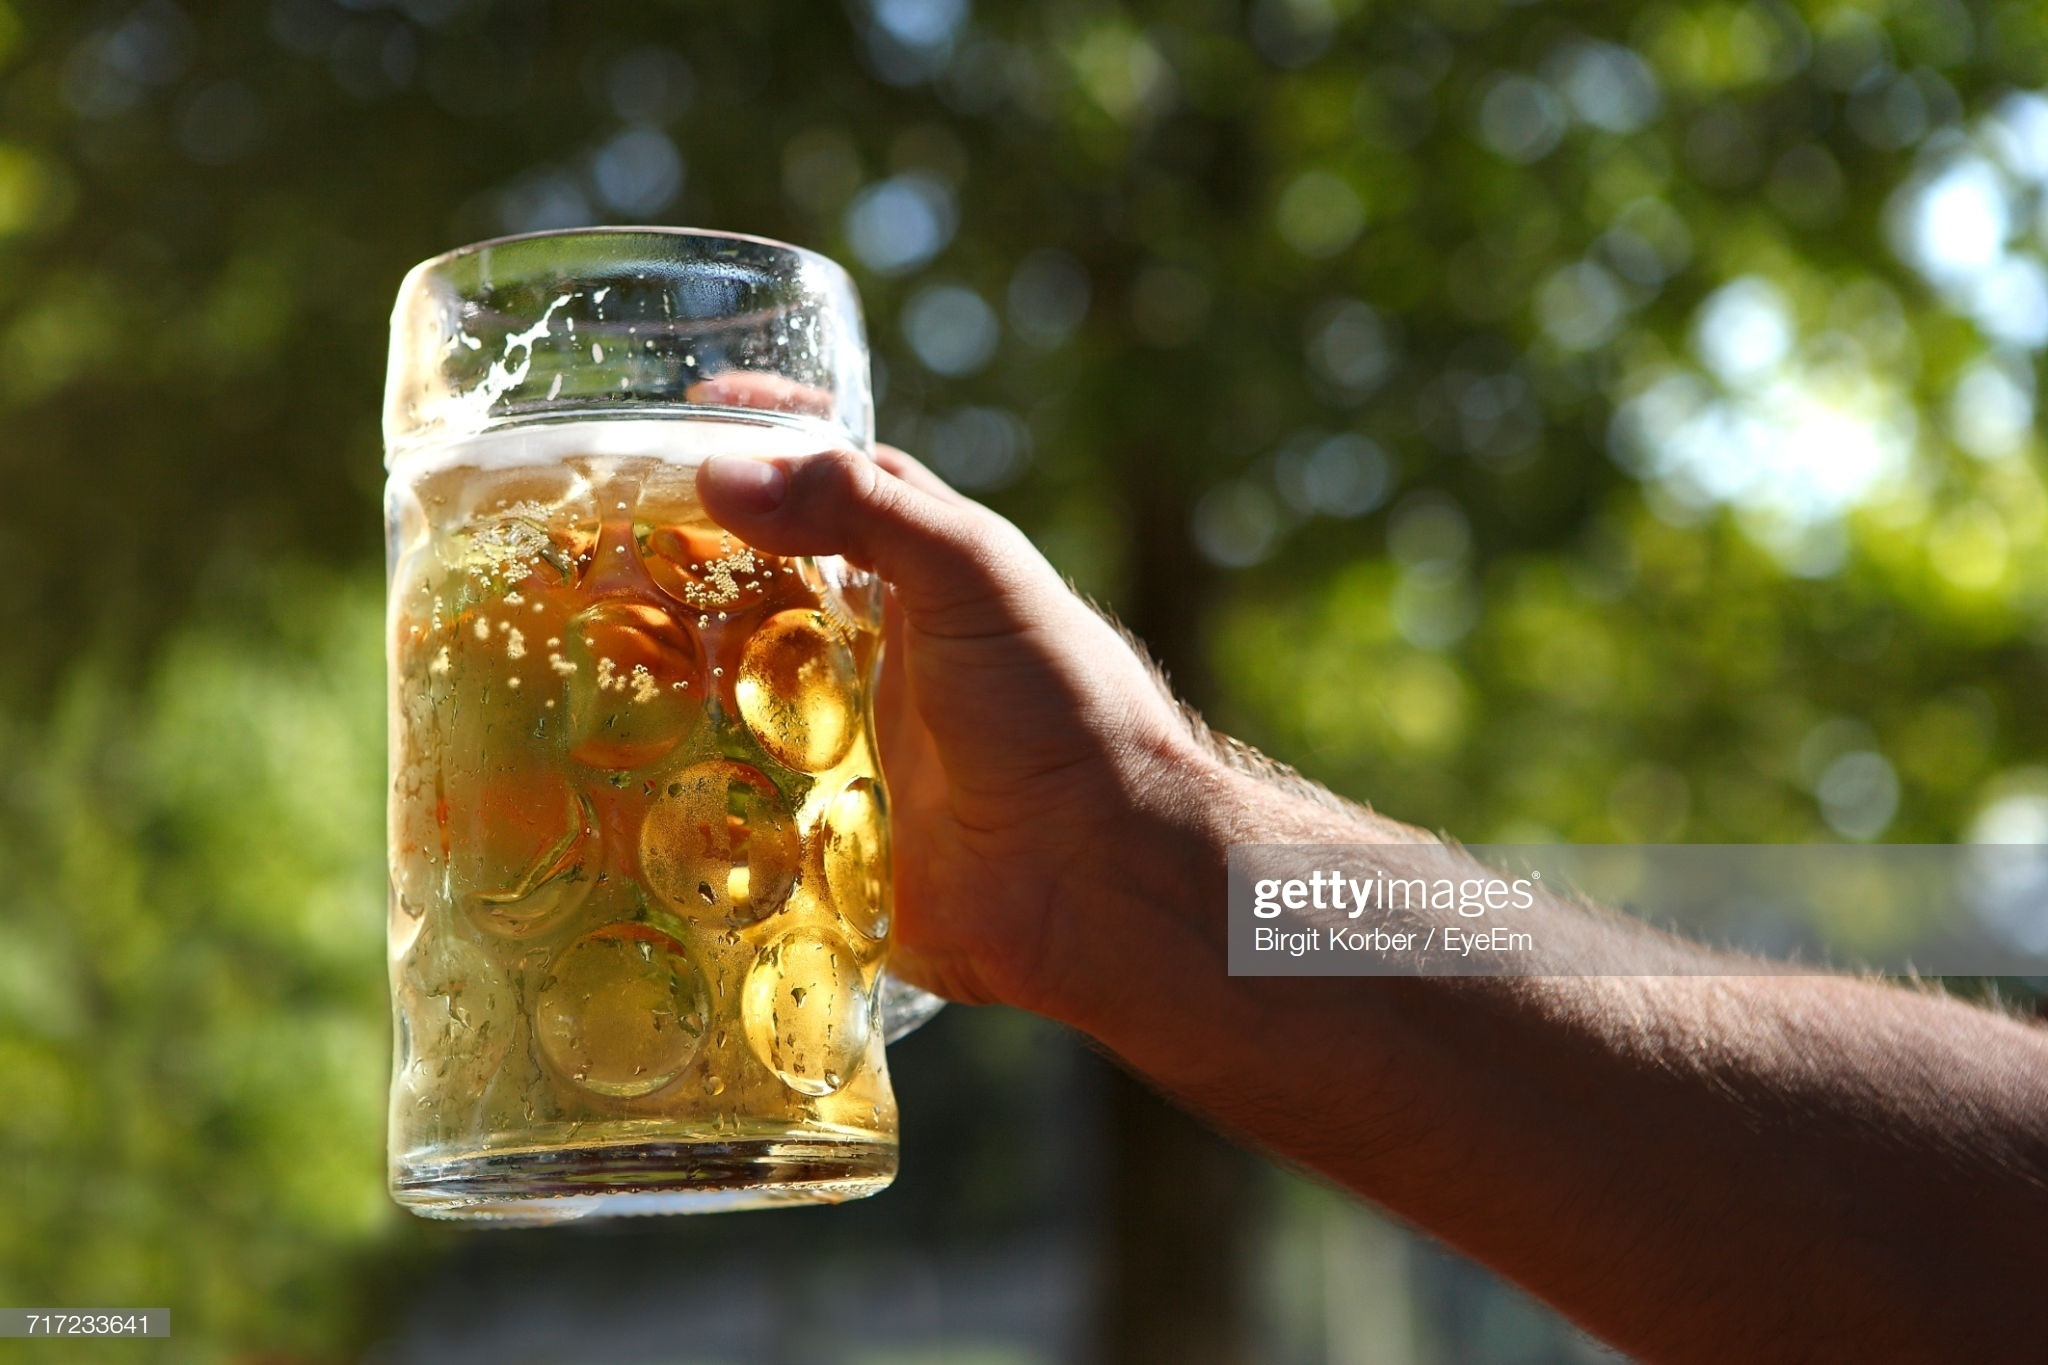whiskey: (367, 235, 895, 1211)
